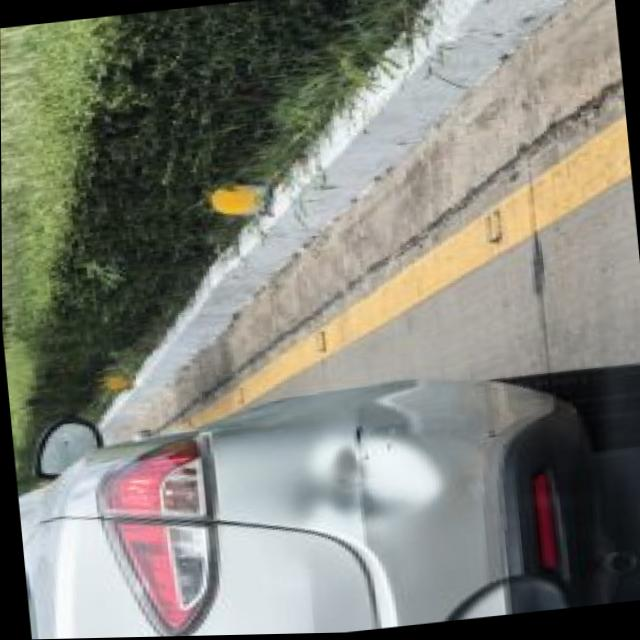Dent: (288, 418, 451, 538)
